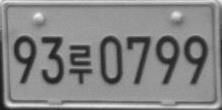0: (98, 34, 123, 84)
3: (40, 35, 65, 84)
7: (126, 35, 151, 85)
9: (155, 34, 181, 84), (183, 33, 208, 84), (12, 34, 37, 84)
루: (69, 43, 93, 85)
